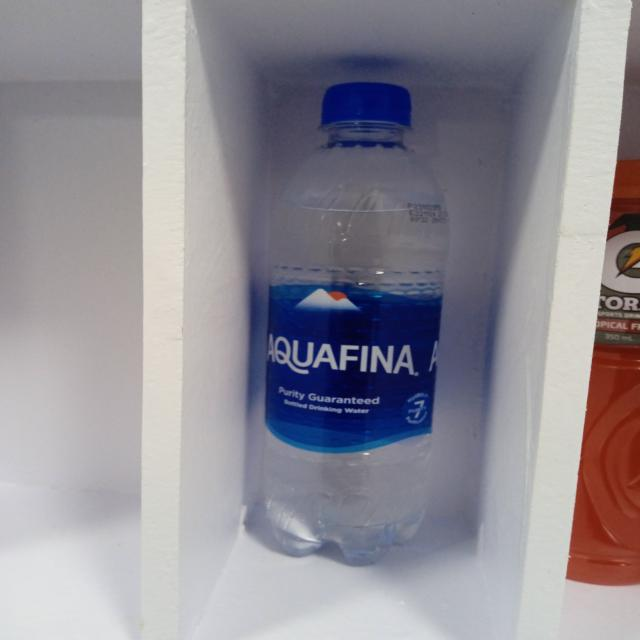Plastic: (258, 83, 448, 559), (579, 160, 640, 581)
